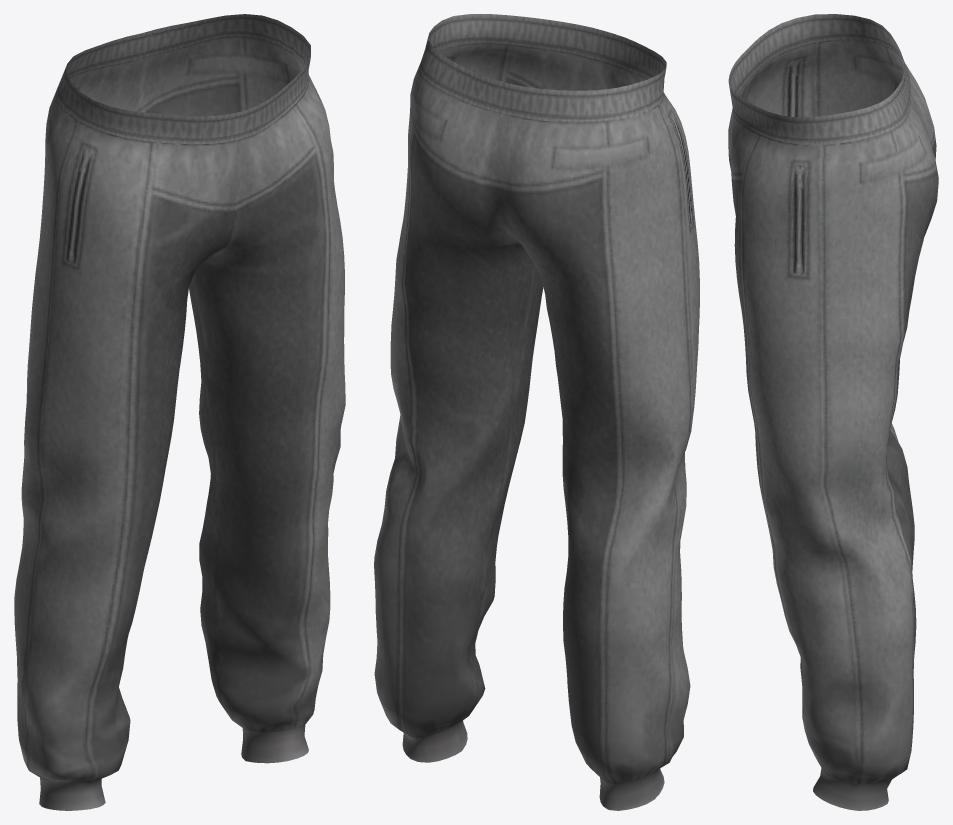
The model's file is pants-anorak-gris-lite.glb.
The picture shows the model from 3 angles, left to right: view 1: azimuth 30°, elevation 25°; view 2: azimuth 150°, elevation 25°; view 3: azimuth 270°, elevation 25°; orthographic projection. The views are drawn at different scales.
Parts seen in each view (by area): view 1: Object_348; view 2: Object_348; view 3: Object_348.
Boxes of the visible parts, x1,y1,x2,y2 form: Object_348: (14,14,345,810); Object_348: (374,14,699,810); Object_348: (728,14,938,810).
Bounding box in the file's own units: 0.4043 × 0.948 × 0.2604.
Materials: 1 (1 with a texture image).
